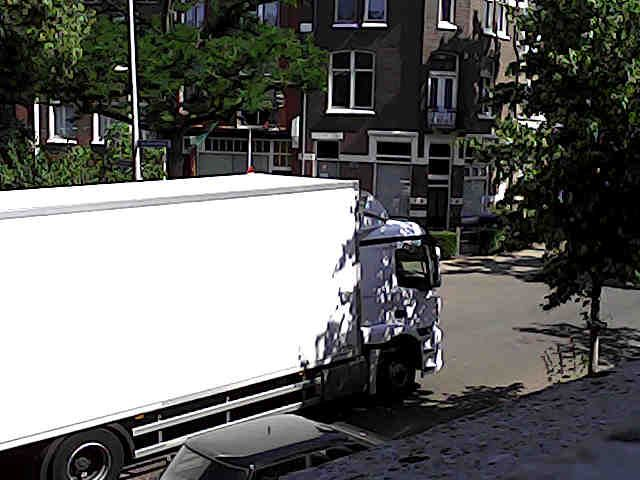suv: (160, 414, 375, 479)
whitevan: (0, 174, 441, 479)
